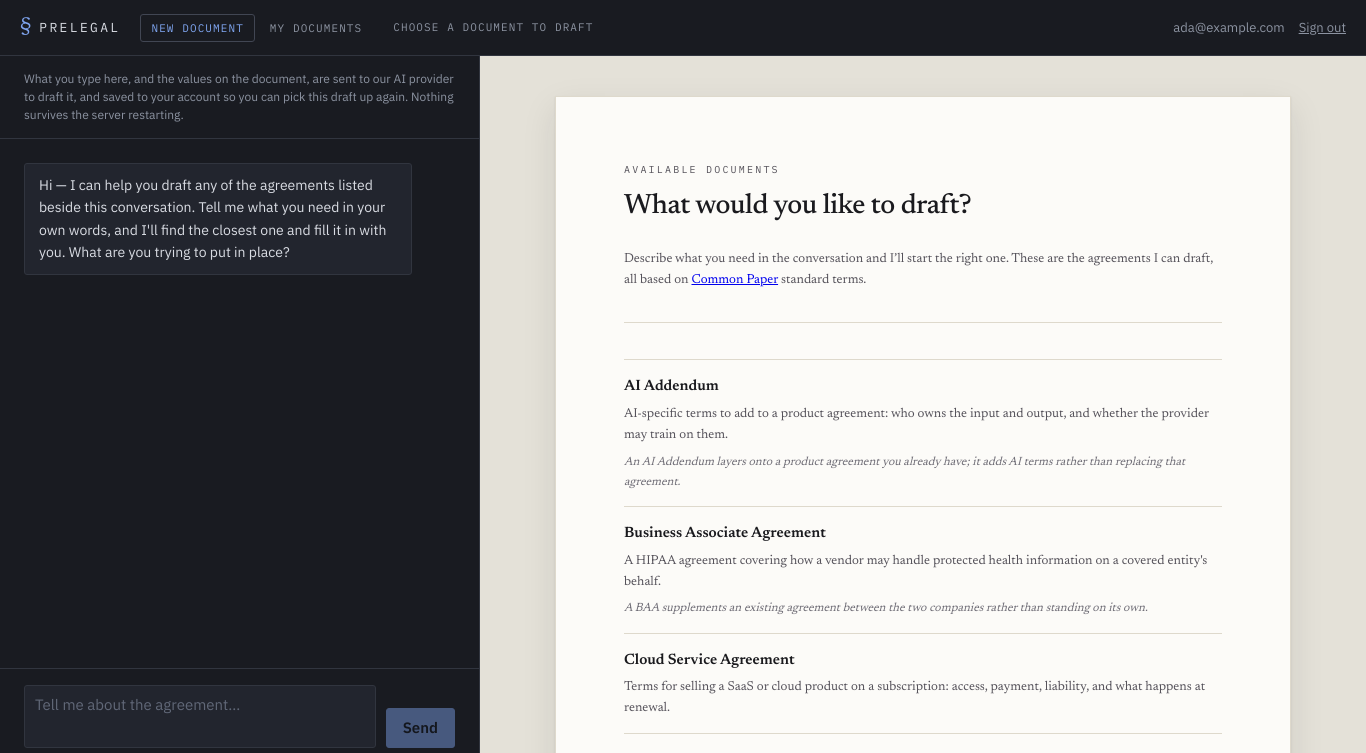
Test case: DocumentWorkspace › choosing a document › carries the document and its answers into the next turn
Type "I need an NDA." into the text box named "Your message" at (200, 716), box [24,685,376,748]
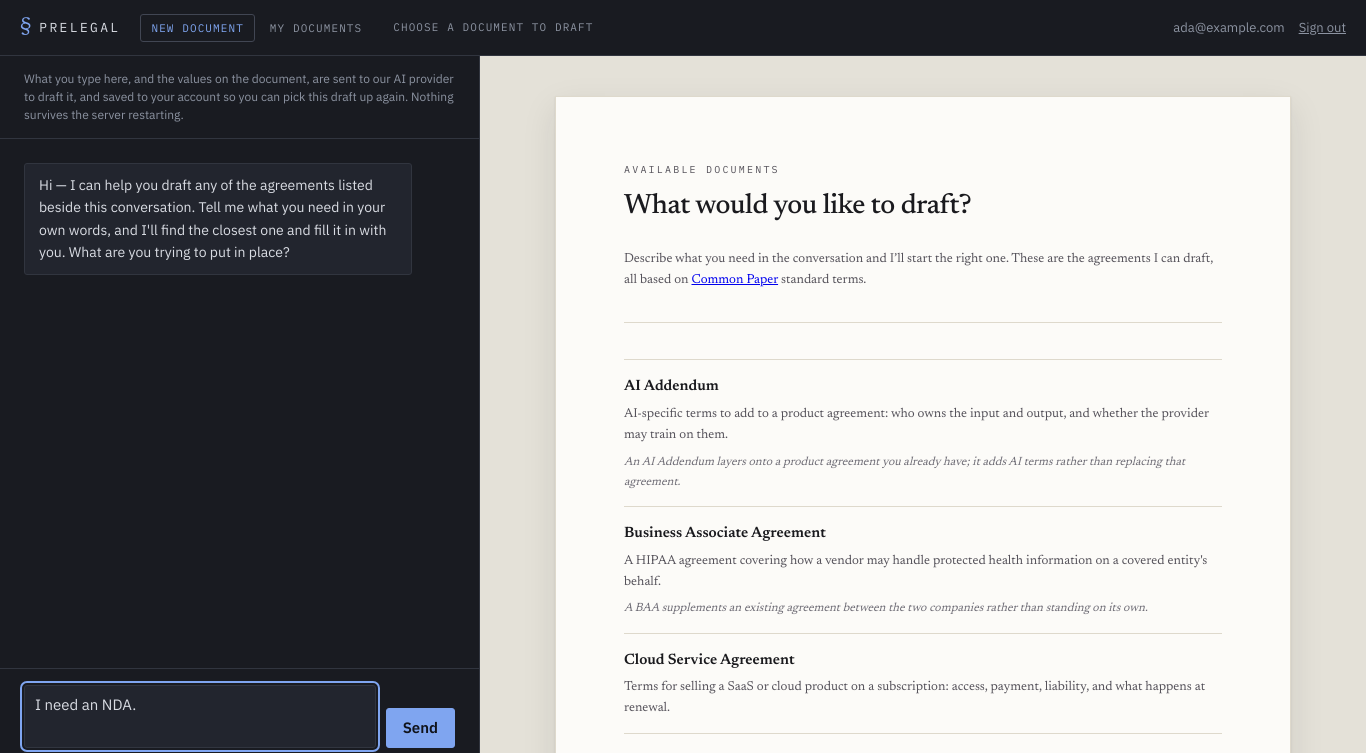
Click the button "Send" at (420, 728), box [386,708,455,748]
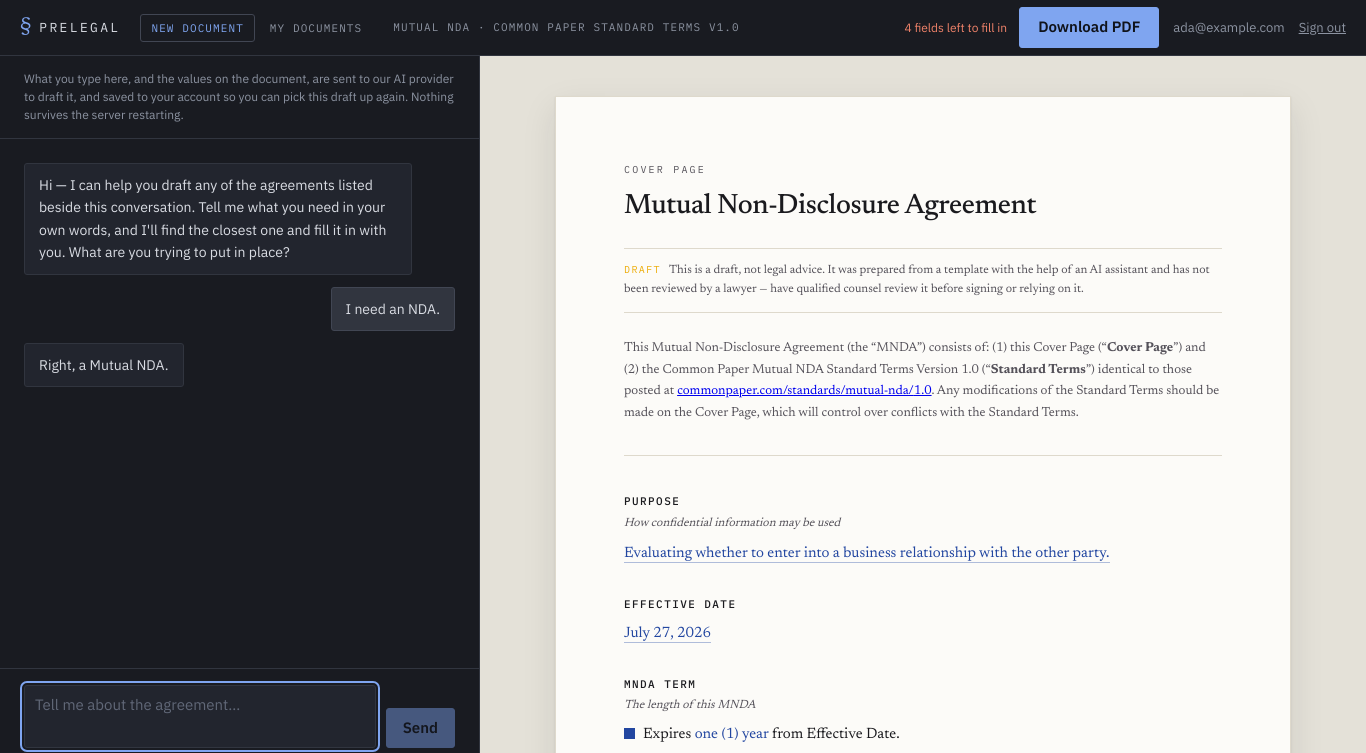
Check: the text "Right, a Mutual NDA." is shown, box [24,343,184,387]
Type "Delaware law." into the text box named "Your message" at (200, 716), box [24,685,376,748]
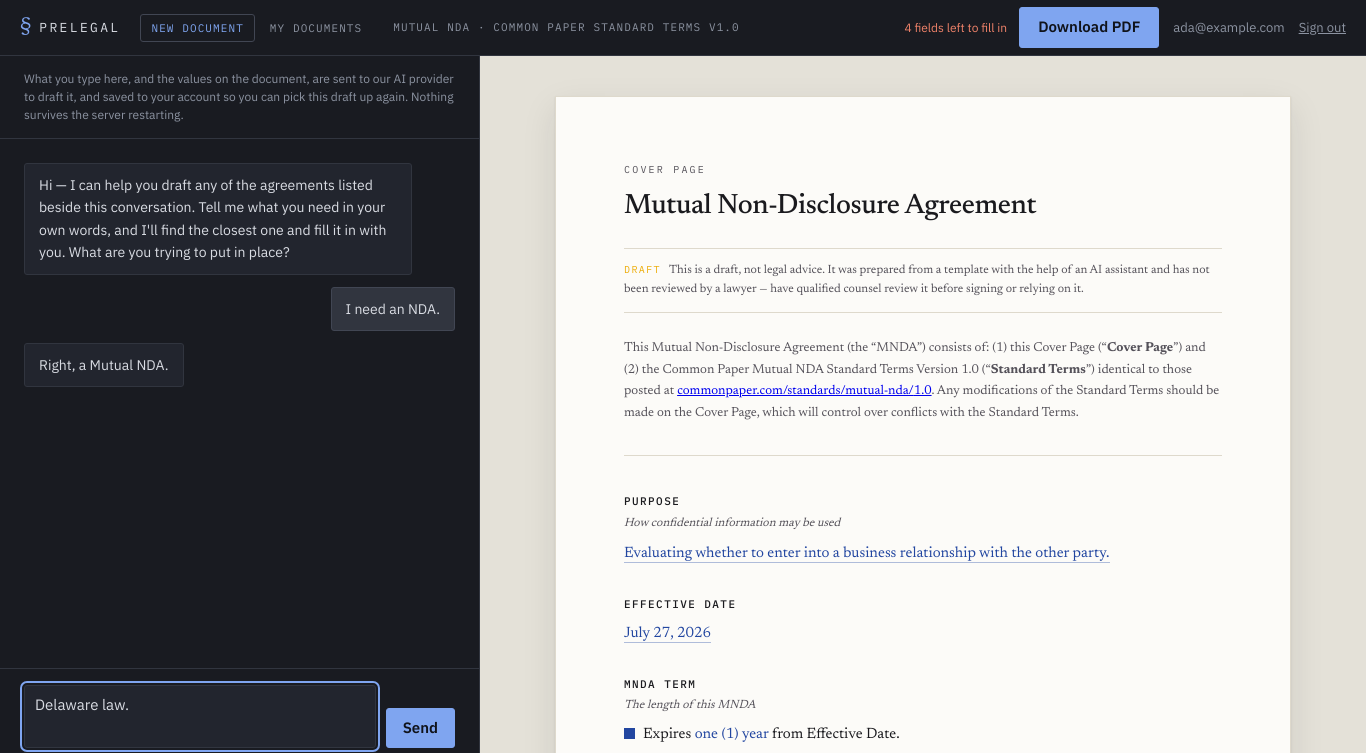
Click the button "Send" at (420, 728), box [386,708,455,748]
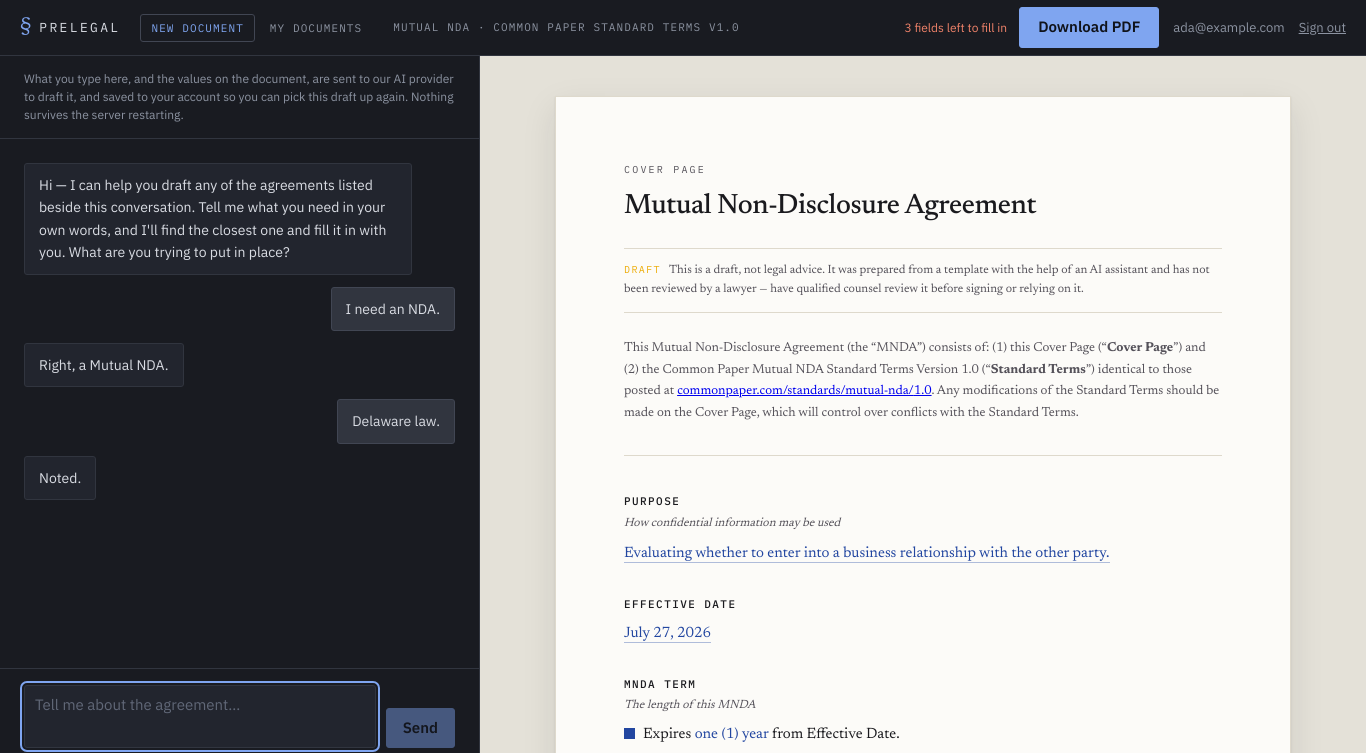
Check: the text "Noted." is shown, box [24,456,96,500]
Type "What else?" into the text box named "Your message" at (200, 716), box [24,685,376,748]
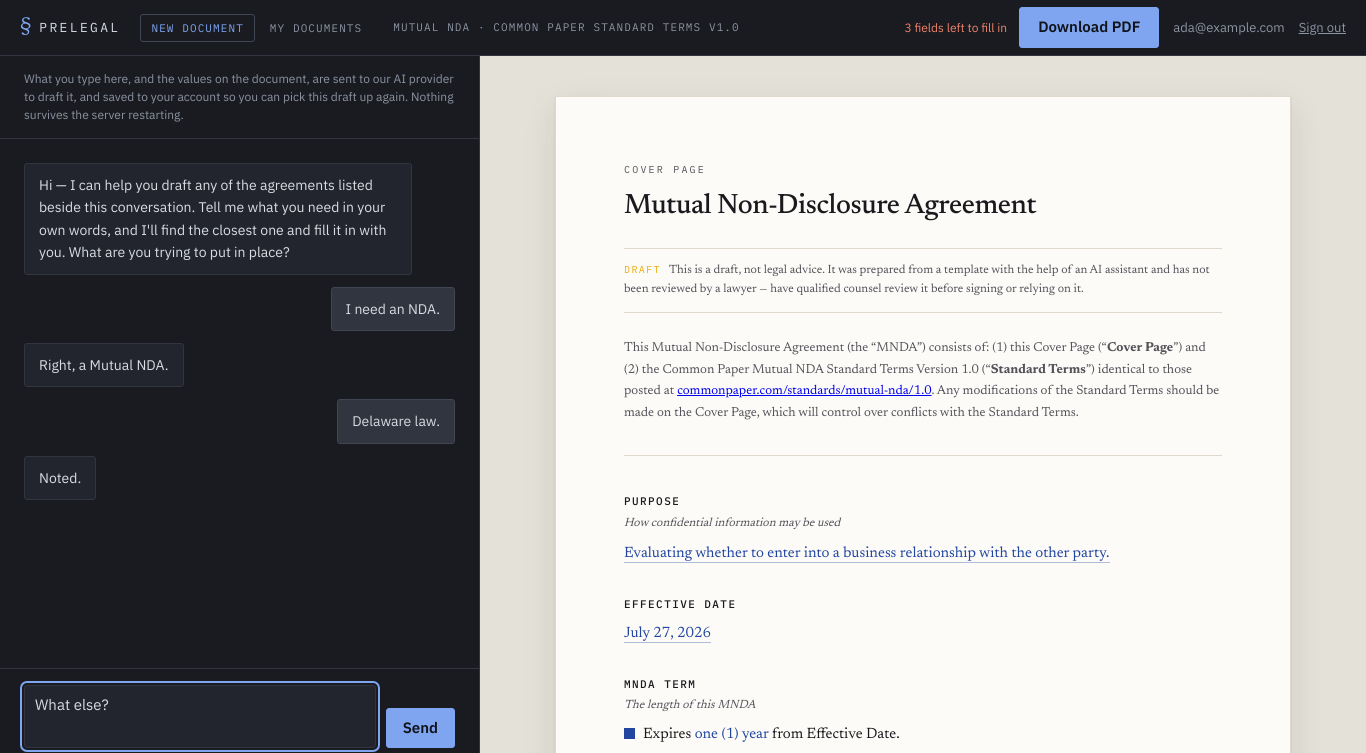
Click the button "Send" at (420, 728), box [386,708,455,748]
(page scrolled)
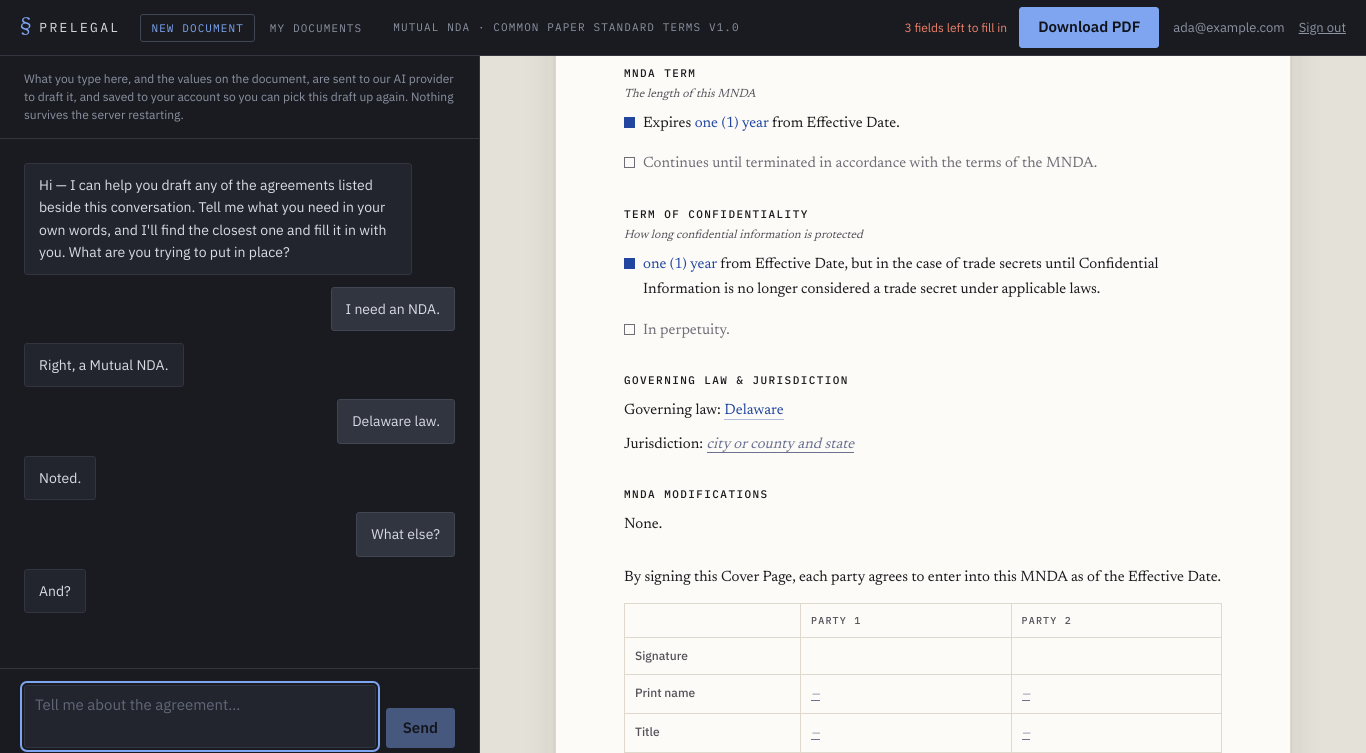
Check: the text "Delaware" is shown, box [724,403,784,420]
